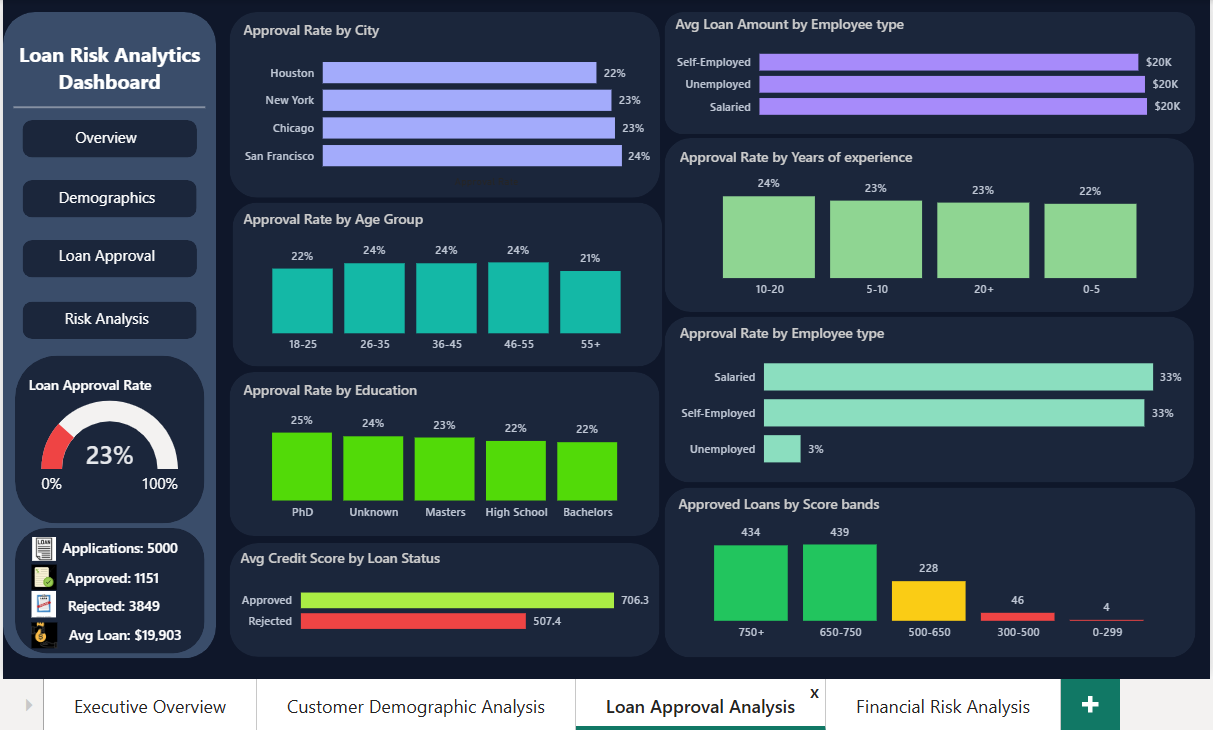

The page's visual inventory and layout, read from the dashboard file:
{"tool":"powerbi","page":{"name":"Loan Approval Analysis","canvas":[1280,720],"ordinal":2},"visuals":[{"type":"clusteredBarChart","fields":{"Category":["LOAN_RISK_DATA_CLEAN.EMPLOYMENTTYPE"],"Y":["LOAN_RISK_DATA_CLEAN.Approval Rate"]},"box":[9.7,13,367.6,249.4],"z":0},{"type":"columnChart","fields":{"Category":["LOAN_RISK_DATA_CLEAN.CITY"],"Y":["LOAN_RISK_DATA_CLEAN.Approval Rate"]},"box":[388.6,13,474.4,234.8],"z":1000},{"type":"clusteredBarChart","fields":{"Category":["LOAN_RISK_DATA_CLEAN.EDUCATION"],"Y":["LOAN_RISK_DATA_CLEAN.Approval Rate"]},"box":[829,440.4,440.4,263.9],"z":2000},{"type":"clusteredBarChart","fields":{"Category":["LOAN_RISK_DATA_CLEAN.score bands"],"Y":["LOAN_RISK_DATA_CLEAN.Total Approved Loans"]},"box":[537.6,262.3,336.8,178.1],"z":3000},{"type":"clusteredBarChart","fields":{"Category":["LOAN_RISK_DATA_CLEAN.Age Group"],"Y":["LOAN_RISK_DATA_CLEAN.Approval Rate"]},"box":[9.7,490.6,570,202.4],"z":4000},{"type":"clusteredBarChart","fields":{"Category":["LOAN_RISK_DATA_CLEAN.Years experience grouped"],"Y":["LOAN_RISK_DATA_CLEAN.Approval Rate"]},"box":[9.7,265.6,493.9,213.7],"z":5000},{"type":"clusteredBarChart","fields":{"Category":["LOAN_RISK_DATA_CLEAN.Loan Status"],"Y":["LOAN_RISK_DATA_CLEAN.Average Credit Score"]},"box":[885.7,204,383.8,220.2],"z":6000},{"type":"pivotTable","fields":{"Rows":["LOAN_RISK_DATA_CLEAN.EMPLOYMENTTYPE"],"Values":["LOAN_RISK_DATA_CLEAN.Average Loan Amount"]},"box":[885.7,13,383.8,126.3],"z":7000}]}

Visuals, with their boxes on the page's 1280x720 design canvas (x1, y1, x2, y2). These are canvas units, not pixel positions in the 1213x730 screenshot, which may show the page scaled, cropped or inside an application window:
clusteredBarChart - LOAN_RISK_DATA_CLEAN.EMPLOYMENTTYPE x LOAN_RISK_DATA_CLEAN.Approval Rate: x1=10, y1=13, x2=377, y2=262
columnChart - LOAN_RISK_DATA_CLEAN.CITY x LOAN_RISK_DATA_CLEAN.Approval Rate: x1=389, y1=13, x2=863, y2=248
clusteredBarChart - LOAN_RISK_DATA_CLEAN.EDUCATION x LOAN_RISK_DATA_CLEAN.Approval Rate: x1=829, y1=440, x2=1269, y2=704
clusteredBarChart - LOAN_RISK_DATA_CLEAN.score bands x LOAN_RISK_DATA_CLEAN.Total Approved Loans: x1=538, y1=262, x2=874, y2=440
clusteredBarChart - LOAN_RISK_DATA_CLEAN.Age Group x LOAN_RISK_DATA_CLEAN.Approval Rate: x1=10, y1=491, x2=580, y2=693
clusteredBarChart - LOAN_RISK_DATA_CLEAN.Years experience grouped x LOAN_RISK_DATA_CLEAN.Approval Rate: x1=10, y1=266, x2=504, y2=479
clusteredBarChart - LOAN_RISK_DATA_CLEAN.Loan Status x LOAN_RISK_DATA_CLEAN.Average Credit Score: x1=886, y1=204, x2=1270, y2=424
pivotTable - LOAN_RISK_DATA_CLEAN.EMPLOYMENTTYPE x LOAN_RISK_DATA_CLEAN.Average Loan Amount: x1=886, y1=13, x2=1270, y2=139
